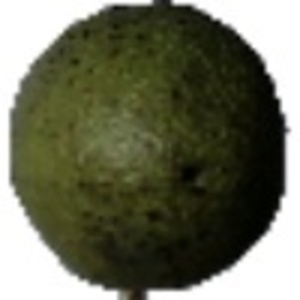abacate: (8, 2, 287, 289)
